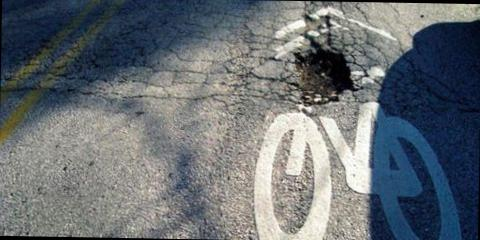pothole: (282, 16, 377, 118)
